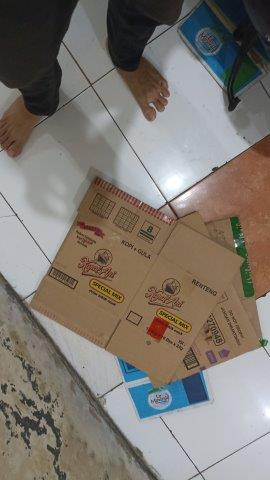kardus: (31, 179, 262, 417)
